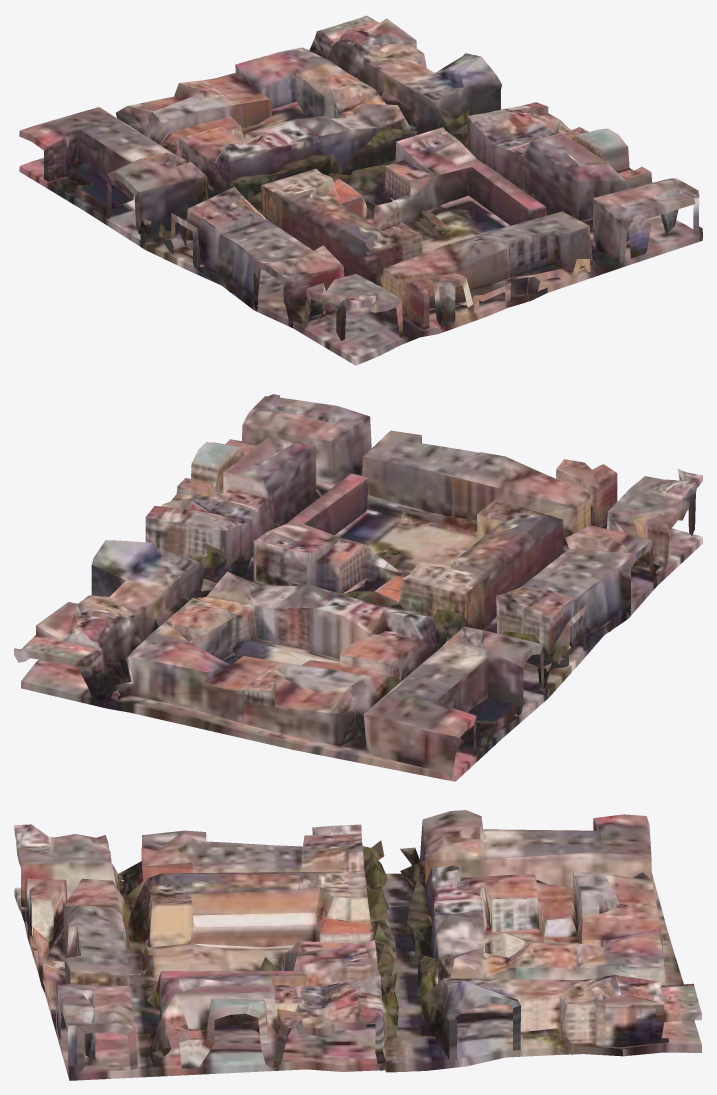
3 views of the same model, one above another, from view 1: azimuth 30°, elevation 25°; view 2: azimuth 150°, elevation 25°; view 3: azimuth 270°, elevation 25° (orthographic). The views are drawn at different scales.
Parts seen in each view (by area): view 1: Mesh_0; view 2: Mesh_0; view 3: Mesh_0.
Part boxes in pixels (bbox=[...]): Mesh_0: bbox=[19, 15, 702, 365]; Mesh_0: bbox=[14, 394, 702, 781]; Mesh_0: bbox=[14, 810, 701, 1080].
Size of the model in its own units: 270 by 46.99 by 330.
2 materials, 2 textured.
